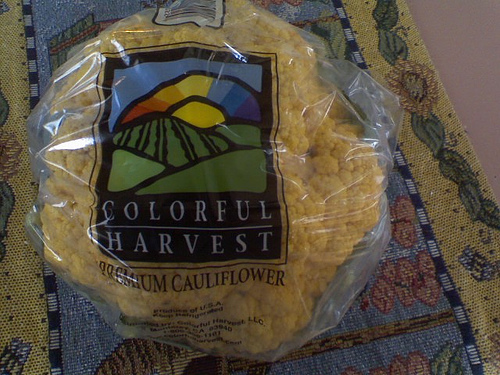cauliflower: (40, 1, 384, 356)
